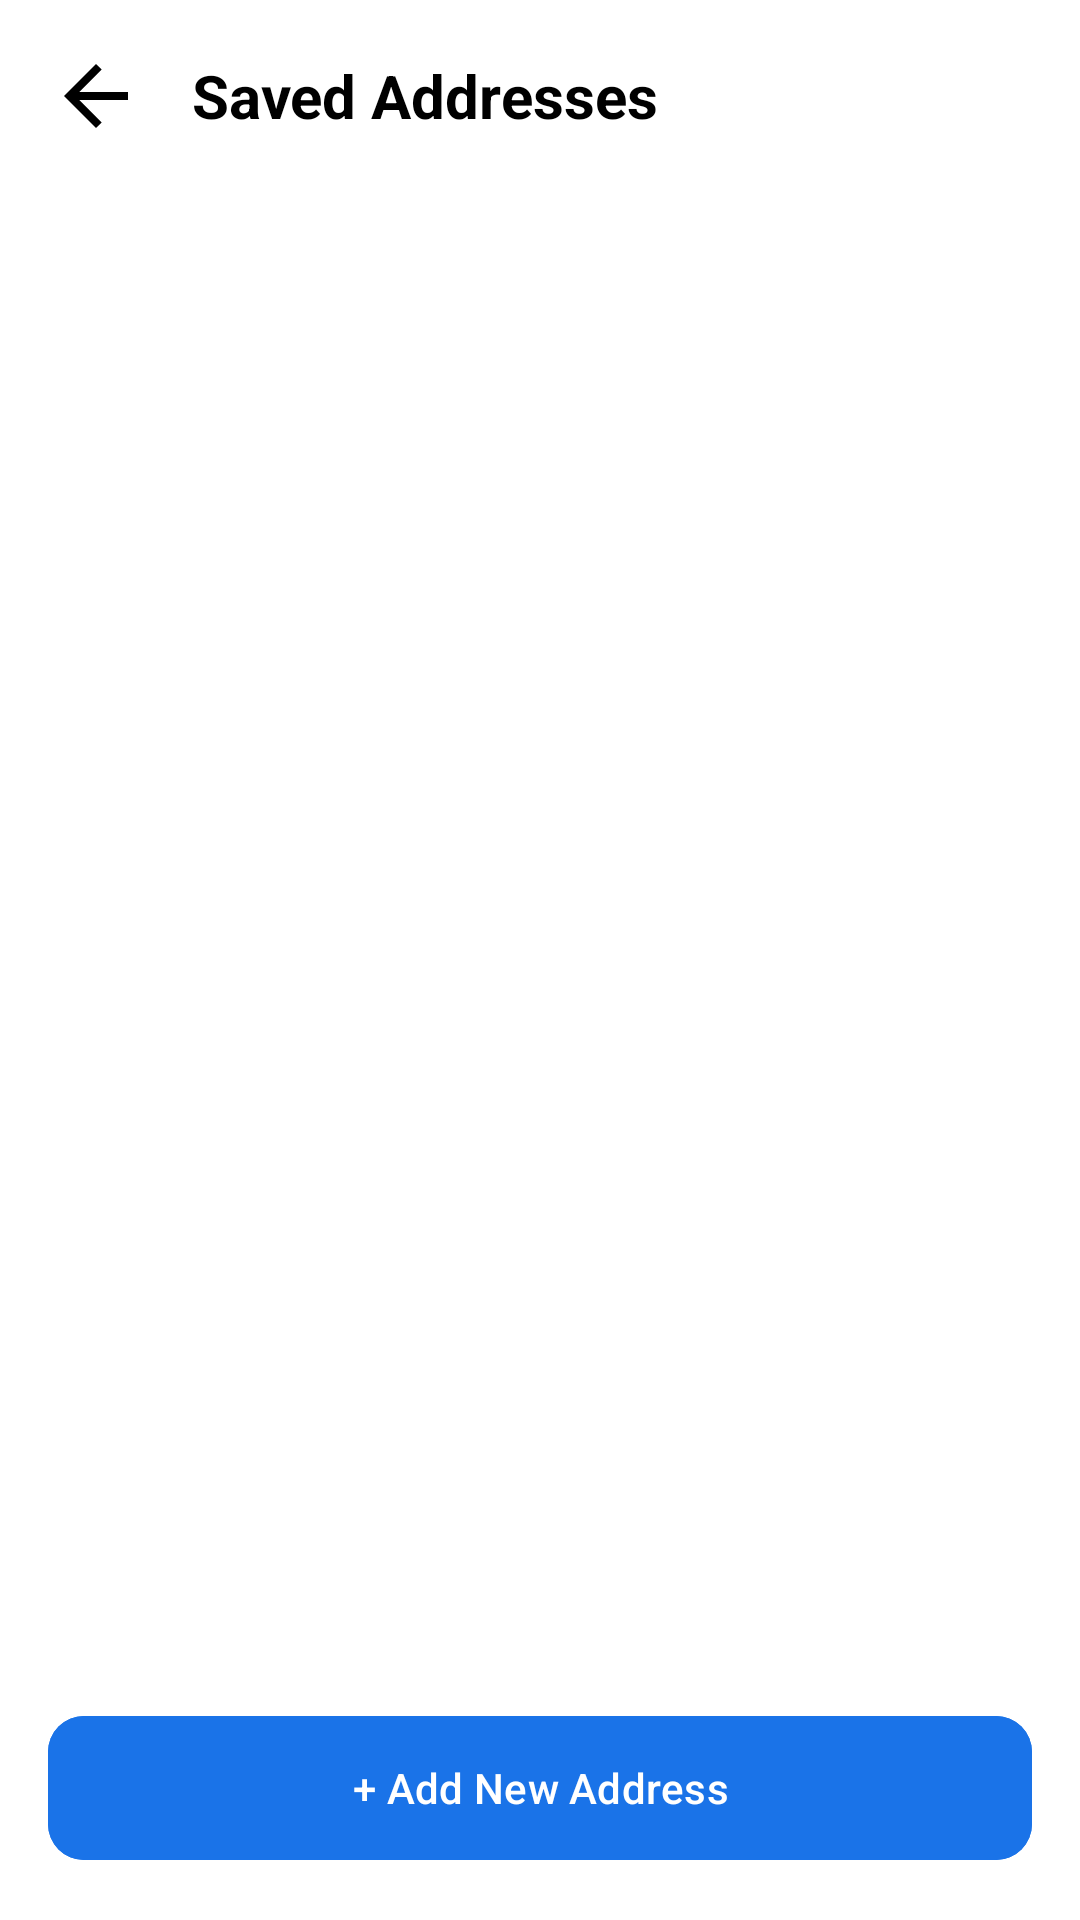

Where to tap for icons on this 1080px×1920px app screen, as [x,y]:
arrow back: [96,96]
